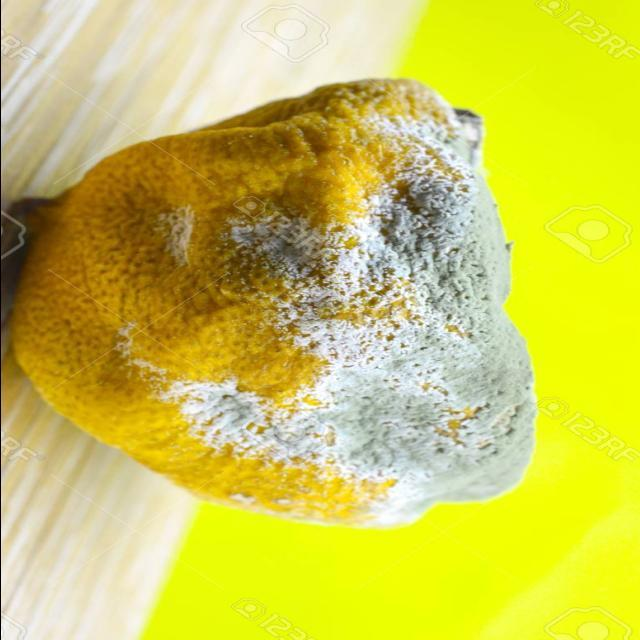Rotten: (8, 74, 538, 529)
